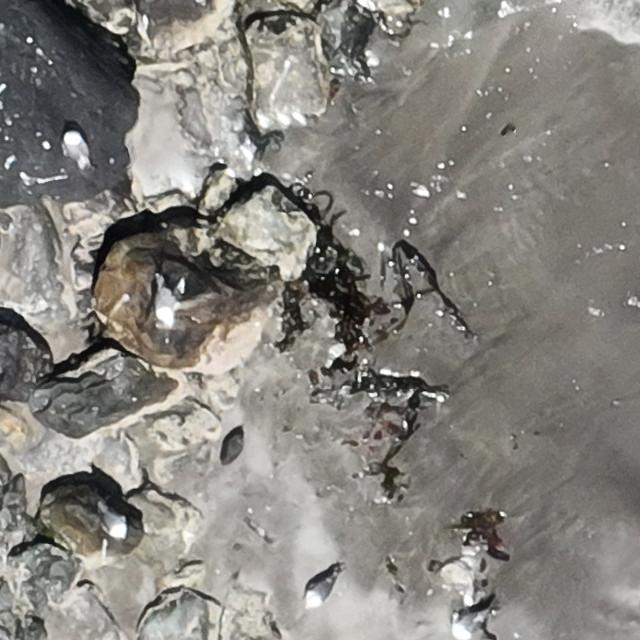umineko: (154, 280, 175, 332), (63, 130, 83, 162), (308, 578, 332, 603), (106, 513, 126, 537)
